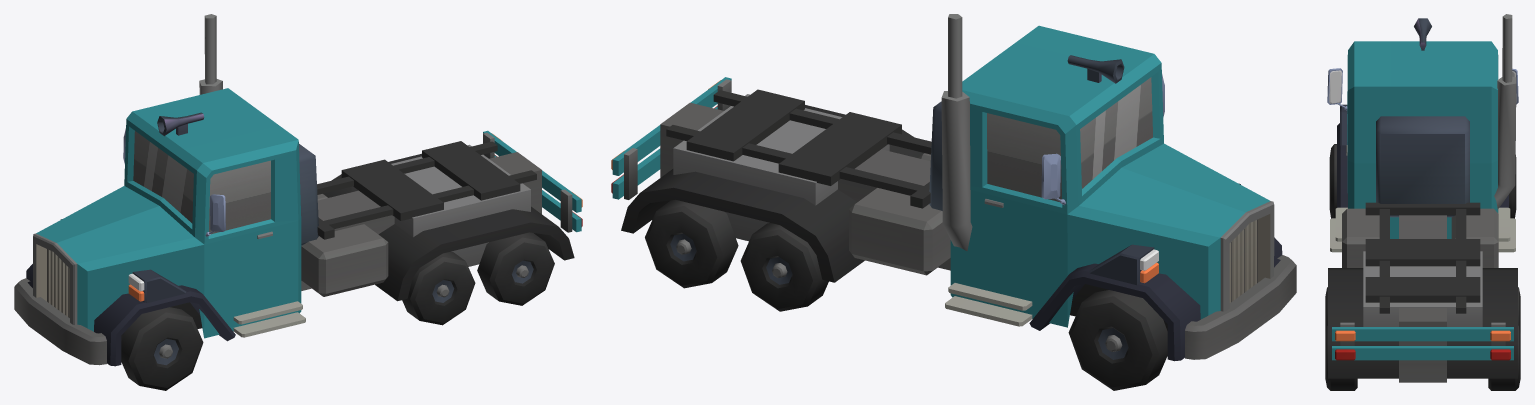
The model's file is Truck_E.gltf.
3 renders of one model, left to right at view 1: azimuth 30°, elevation 25°; view 2: azimuth 150°, elevation 25°; view 3: azimuth 270°, elevation 25°, orthographic. The views are drawn at different scales.
Parts seen in each view (by area): view 1: Truck_E, FL, RM, ML; view 2: Truck_E, FR, RL, MR; view 3: Truck_E, RL, RM, FL, FR.
Part boxes in pixels (x1,y1,x2,y2): Truck_E: (14,14,582,366); FL: (121,307,203,390); RM: (477,232,554,305); ML: (402,251,475,325); Truck_E: (611,14,1296,361); FR: (1068,290,1167,390); RL: (645,200,738,288); MR: (740,223,828,311); Truck_E: (1327,14,1518,382); RL: (1488,325,1520,390); RM: (1325,325,1357,390); FL: (1329,144,1336,218); FR: (1509,155,1516,218).
Size of the model in its own units: 5.24 by 2.81 by 1.85.
4 materials, 4 textured.
